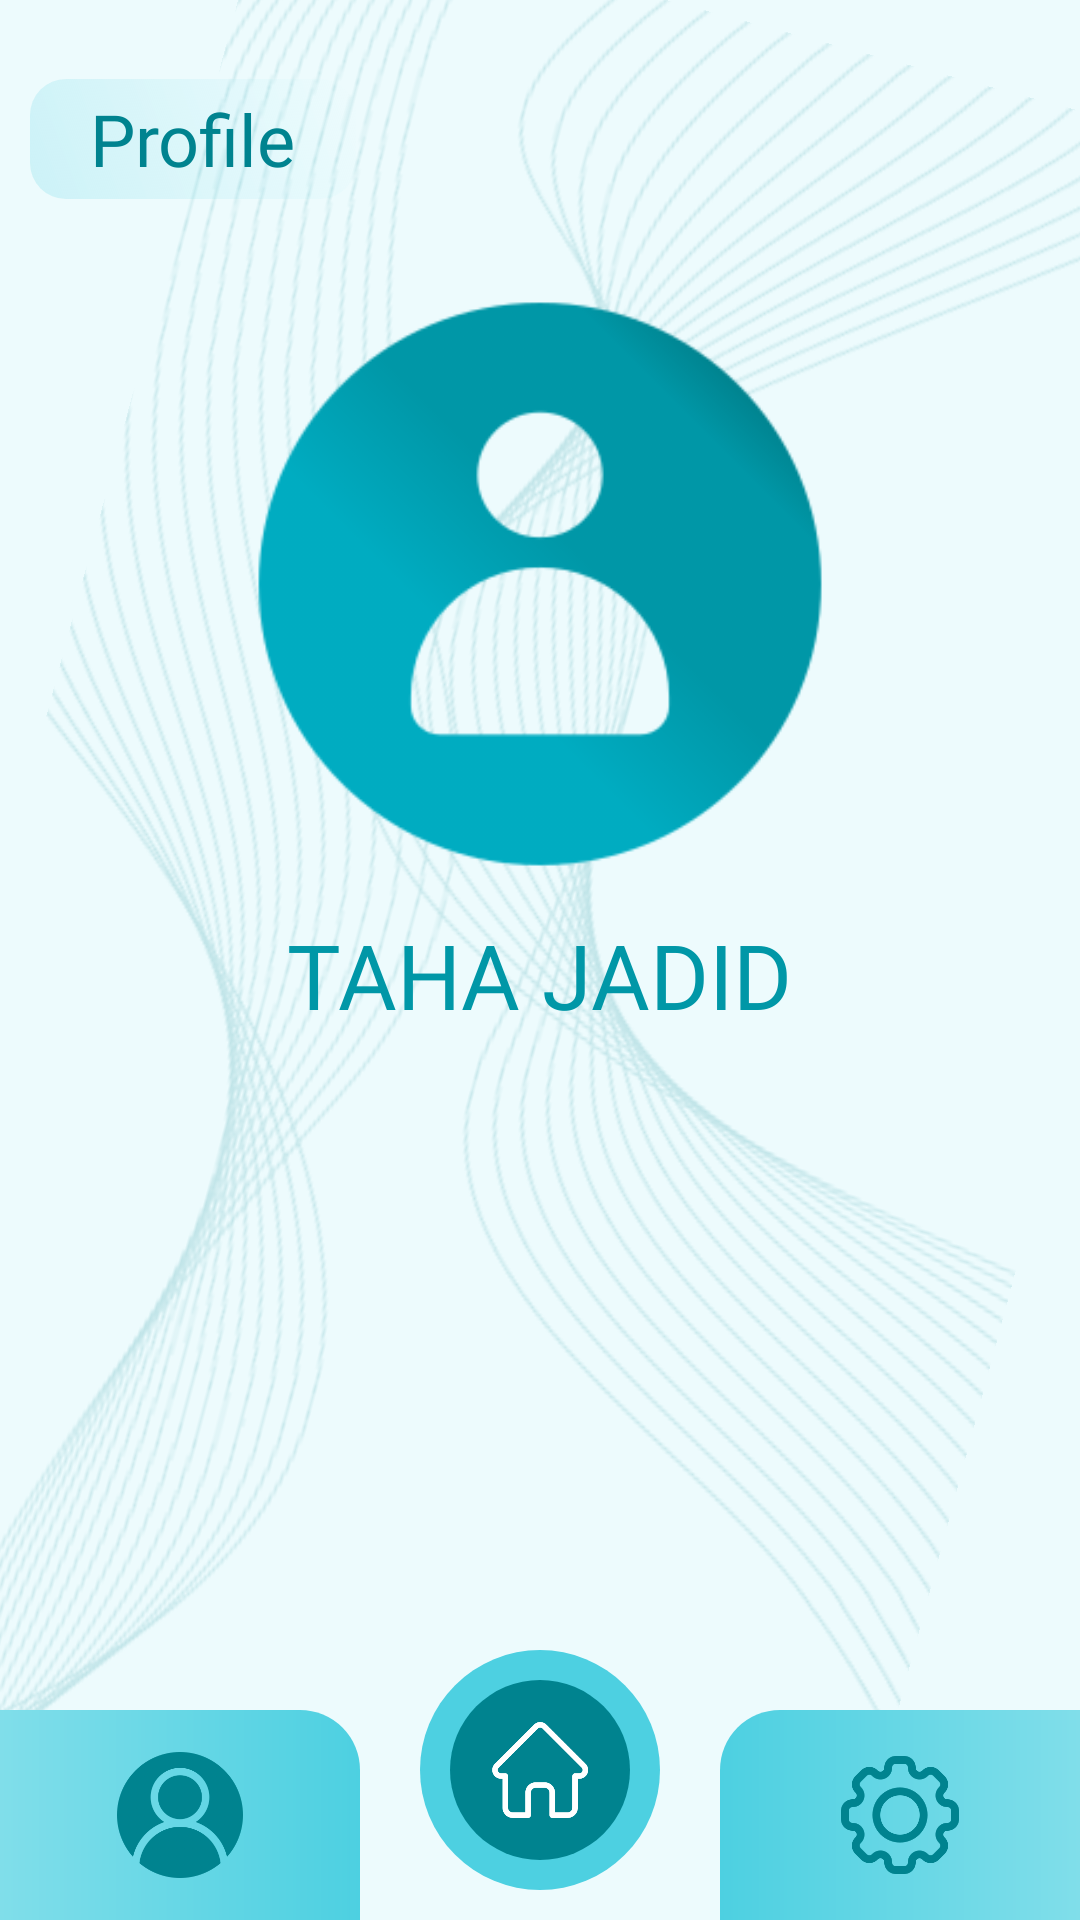

Screen size 1080 × 1920. Icon name, then its box in pixels as (x1, y1, x2, y2):
home: (450, 1680, 630, 1860)
profile: (0, 1710, 360, 1920)
setting: (720, 1710, 1080, 1920)
